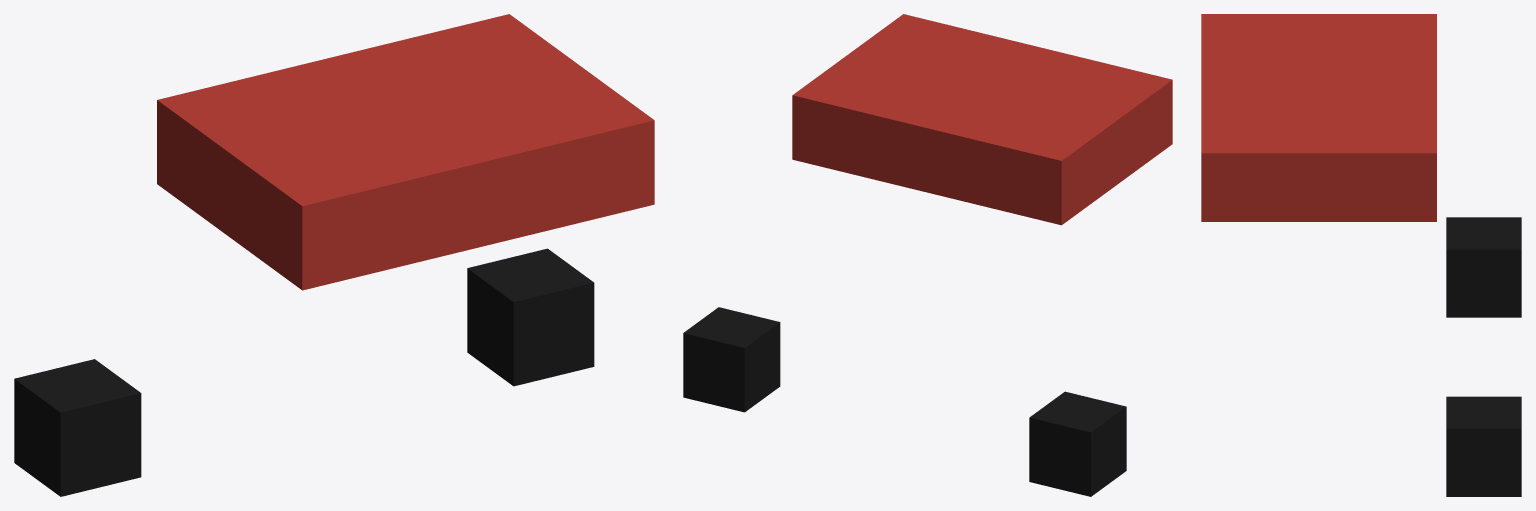
Rendered from cover.breaching_cart.glb.
The picture shows the model from 3 angles, left to right: view 1: azimuth 30°, elevation 25°; view 2: azimuth 150°, elevation 25°; view 3: azimuth 270°, elevation 25°; orthographic projection. The views are drawn at different scales.
Visible parts, largest first — view 1: charge_case, wheel_l, wheel_r; view 2: charge_case, wheel_l, wheel_r; view 3: charge_case, wheel_l, wheel_r.
Part boxes in pixels (x1,y1,x2,y2): charge_case: (157, 14, 654, 290); wheel_l: (14, 359, 141, 496); wheel_r: (467, 248, 594, 386); charge_case: (792, 14, 1172, 225); wheel_l: (1029, 391, 1126, 496); wheel_r: (683, 307, 780, 412); charge_case: (1201, 14, 1436, 221); wheel_l: (1446, 217, 1521, 317); wheel_r: (1446, 396, 1521, 496).
Size of what is drawn, in the model's own units: 2.12 by 1.44 by 1.36.
